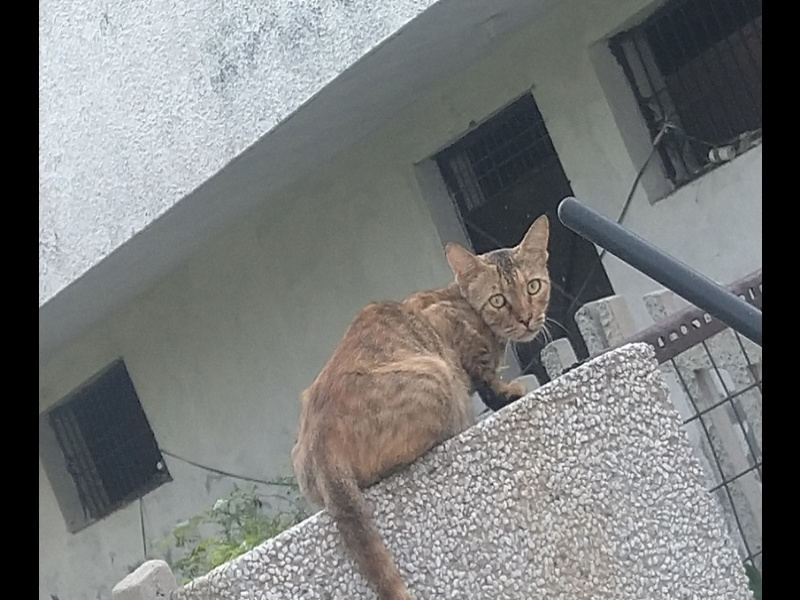cat: (291, 207, 553, 599)
